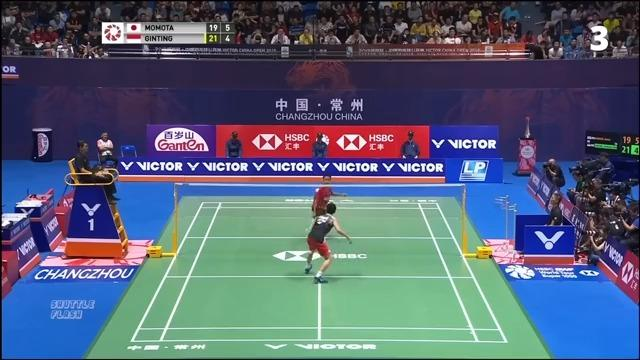Shuttlecock: (314, 185, 320, 195)
